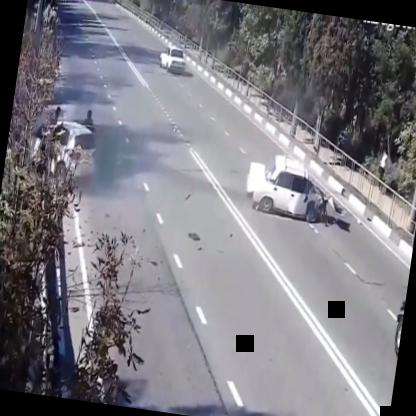accident: (238, 146, 348, 237), (28, 92, 108, 194)
